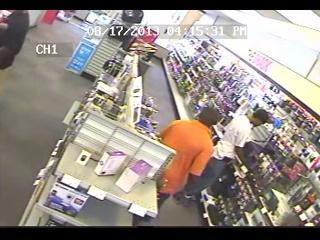Normal: (173, 108, 269, 207), (156, 107, 220, 207), (0, 11, 30, 70)
